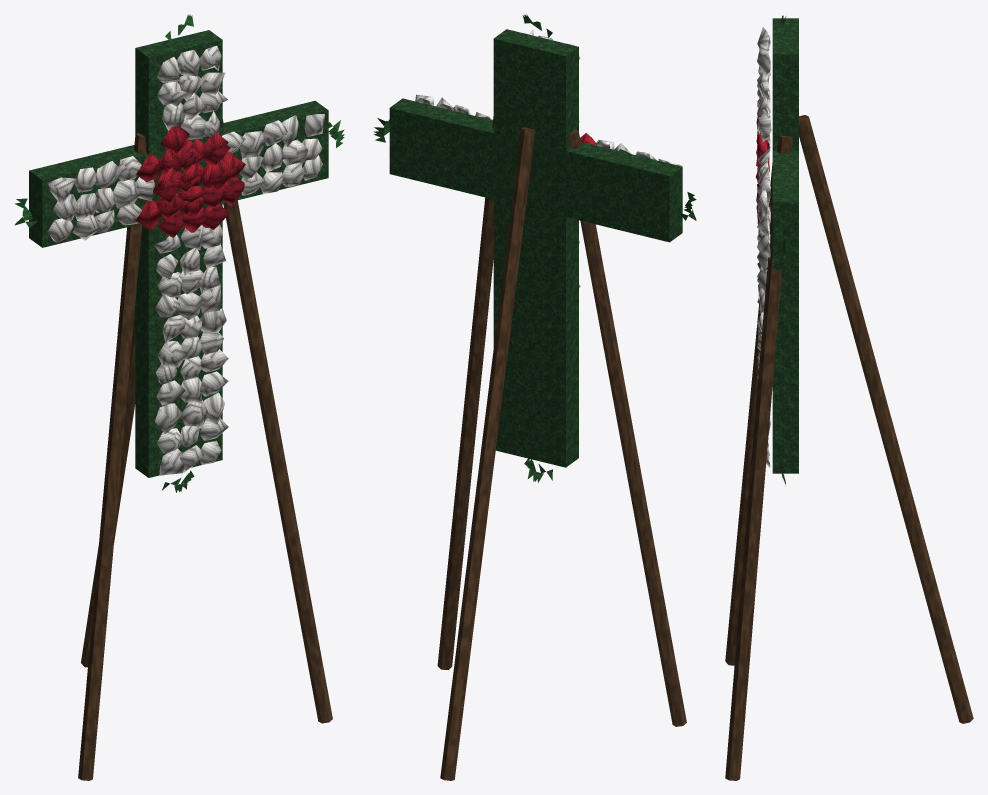
The model's file is corona_cruz_lod.obj.
The picture shows the model from 3 angles, left to right: view 1: azimuth 30°, elevation 25°; view 2: azimuth 150°, elevation 25°; view 3: azimuth 270°, elevation 25°; orthographic projection. The views are drawn at different scales.
Parts seen in each view (by area): view 1: Flores_Petalo_Blanco, Cube, Cylinder, Cylinder.001, Flores_Petalo_Rojo, Cube.001, Cylinder.002, Flores_Hoja_Verde_Oscuro; view 2: Cube, Cube.001, Cylinder.002, Cylinder, Cylinder.001, Flores_Petalo_Blanco, Flores_Hoja_Verde_Oscuro; view 3: Cylinder.002, Cylinder.001, Cube, Flores_Petalo_Blanco, Cube.001, Cylinder.
Part boxes in pixels (x1=…): Flores_Petalo_Blanco: x1=47, y1=45, x2=324, y2=475; Cube: x1=135, y1=30, x2=222, y2=477; Cylinder: x1=78, y1=133, x2=145, y2=780; Cylinder.001: x1=222, y1=119, x2=332, y2=723; Flores_Petalo_Rojo: x1=136, y1=125, x2=245, y2=237; Cube.001: x1=29, y1=100, x2=328, y2=247; Cylinder.002: x1=81, y1=306, x2=135, y2=667; Flores_Hoja_Verde_Oscuro: x1=14, y1=14, x2=344, y2=492; Cube: x1=493, y1=29, x2=578, y2=467; Cube.001: x1=389, y1=98, x2=682, y2=242; Cylinder.002: x1=440, y1=127, x2=535, y2=780; Cylinder: x1=569, y1=129, x2=686, y2=726; Cylinder.001: x1=437, y1=116, x2=493, y2=669; Flores_Petalo_Blanco: x1=415, y1=30, x2=682, y2=287; Flores_Hoja_Verde_Oscuro: x1=373, y1=14, x2=696, y2=482; Cylinder.002: x1=799, y1=115, x2=973, y2=723; Cylinder.001: x1=725, y1=135, x2=792, y2=780; Cube: x1=772, y1=18, x2=798, y2=473; Flores_Petalo_Blanco: x1=757, y1=27, x2=771, y2=467; Cube.001: x1=772, y1=150, x2=798, y2=269; Cylinder: x1=725, y1=163, x2=772, y2=665.
Bounding box in the file's own units: 0.7163 × 1.48 × 0.4675.
Materials: 5 (5 with a texture image).
